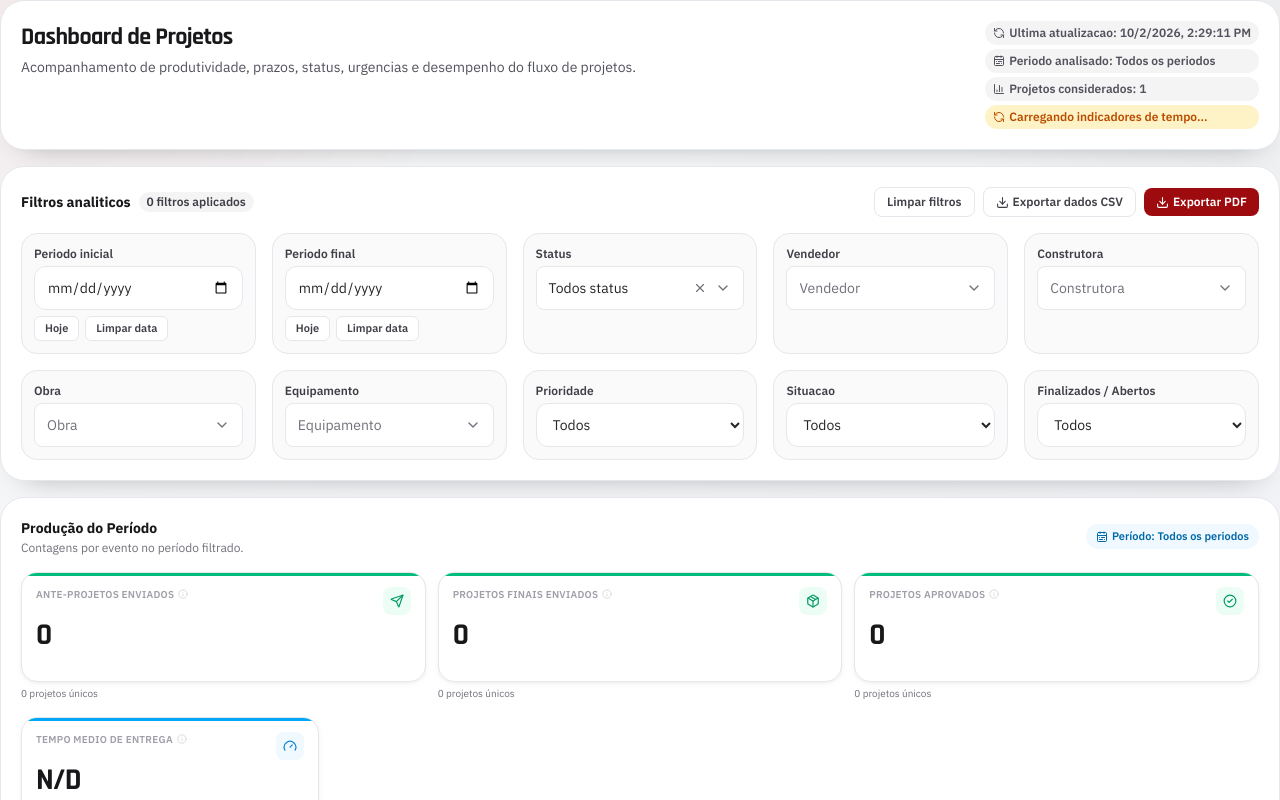
Test: projects kpi dashboard › clicar em 'Exportar PDF' faz POST para a rota e mostra loading
This screenshot has width=1280, height=800.
Click the button "Exportar PDF": (1201, 202) [1144,188,1259,216]
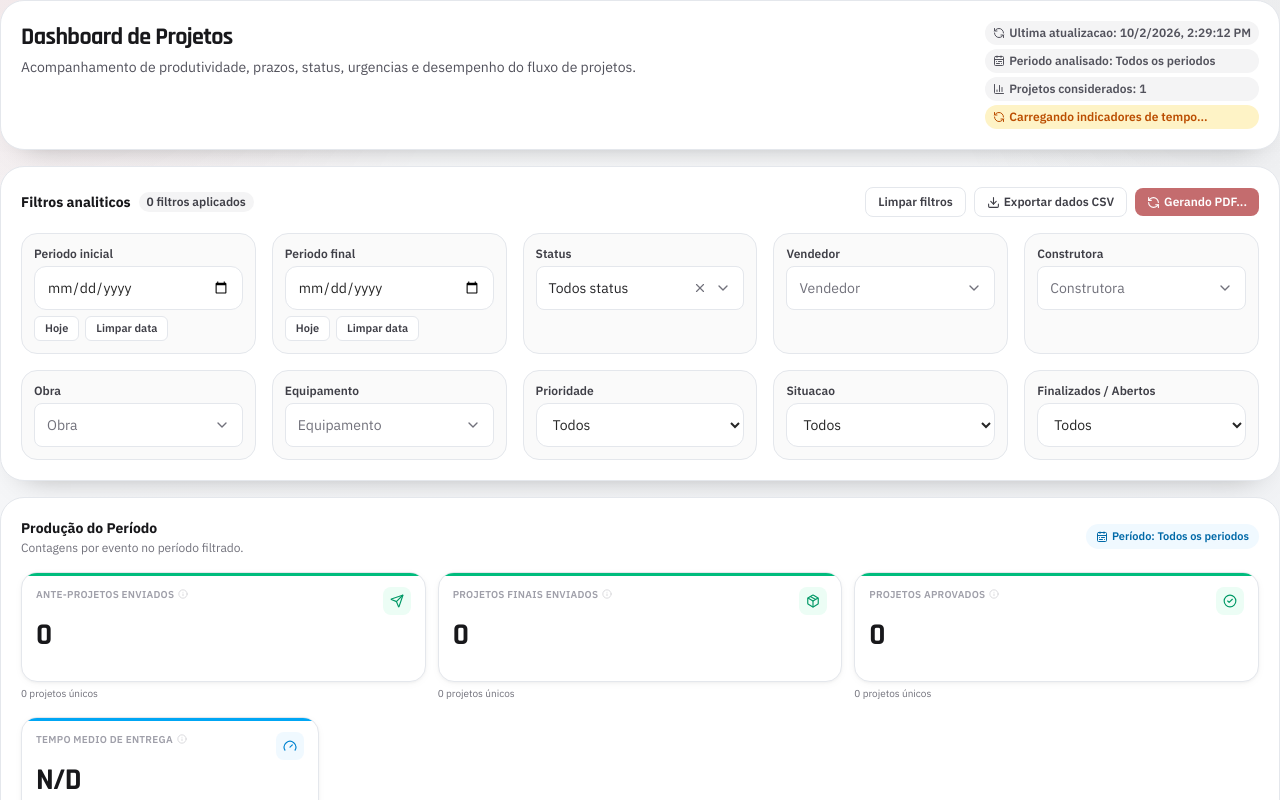
Expected: the button "Gerando PDF..." is disabled, [1135,188,1259,216]
